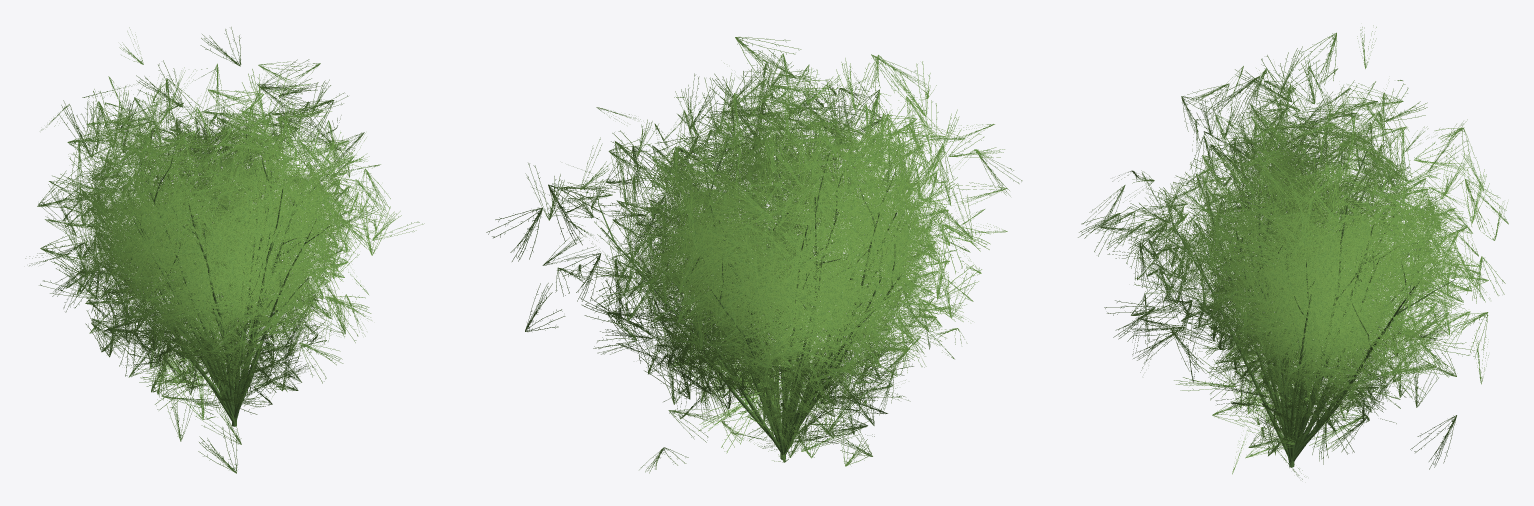
The model's file is BR1_Broom_Green_1.2m.glb.
3 renders of one model, left to right at view 1: azimuth 30°, elevation 25°; view 2: azimuth 150°, elevation 25°; view 3: azimuth 270°, elevation 25°, orthographic. The views are drawn at different scales.
Visible parts, largest first — view 1: BR1_leaves, BR1_wood; view 2: BR1_leaves, BR1_wood; view 3: BR1_leaves, BR1_wood.
Part boxes in pixels (box(x1,y1,x2,y2)): BR1_leaves: box(25, 27, 424, 473); BR1_wood: box(101, 113, 329, 426); BR1_leaves: box(486, 37, 1022, 473); BR1_wood: box(595, 111, 916, 459); BR1_leaves: box(1078, 25, 1508, 479); BR1_wood: box(1149, 100, 1455, 467).
Bounding box in the file's own units: 1.24 × 1.31 × 1.18.
2 materials, 2 textured.
